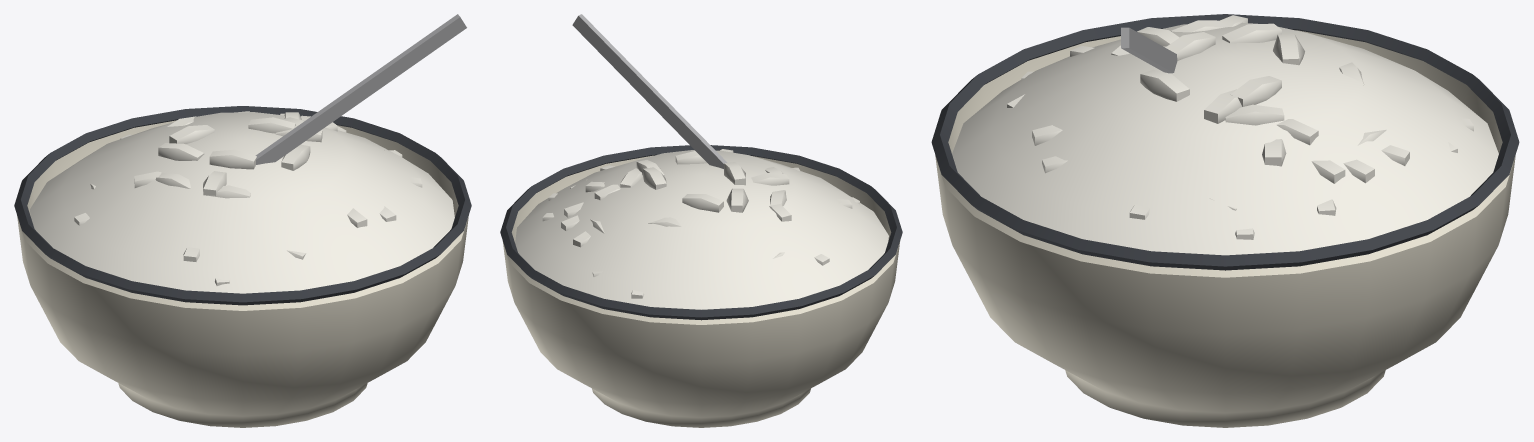
The model's file is cook_steamed_rice.glb.
The picture shows the model from 3 angles, left to right: view 1: azimuth 30°, elevation 25°; view 2: azimuth 150°, elevation 25°; view 3: azimuth 270°, elevation 25°; orthographic projection. The views are drawn at different scales.
Parts seen in each view (by area): view 1: body; view 2: body; view 3: body.
Part boxes in pixels (x1,y1,x2,y2): body: (14, 14, 471, 427); body: (500, 14, 902, 427); body: (931, 14, 1519, 427).
Bounding box in the file's own units: 0.0628 × 0.0521 × 0.0628.
